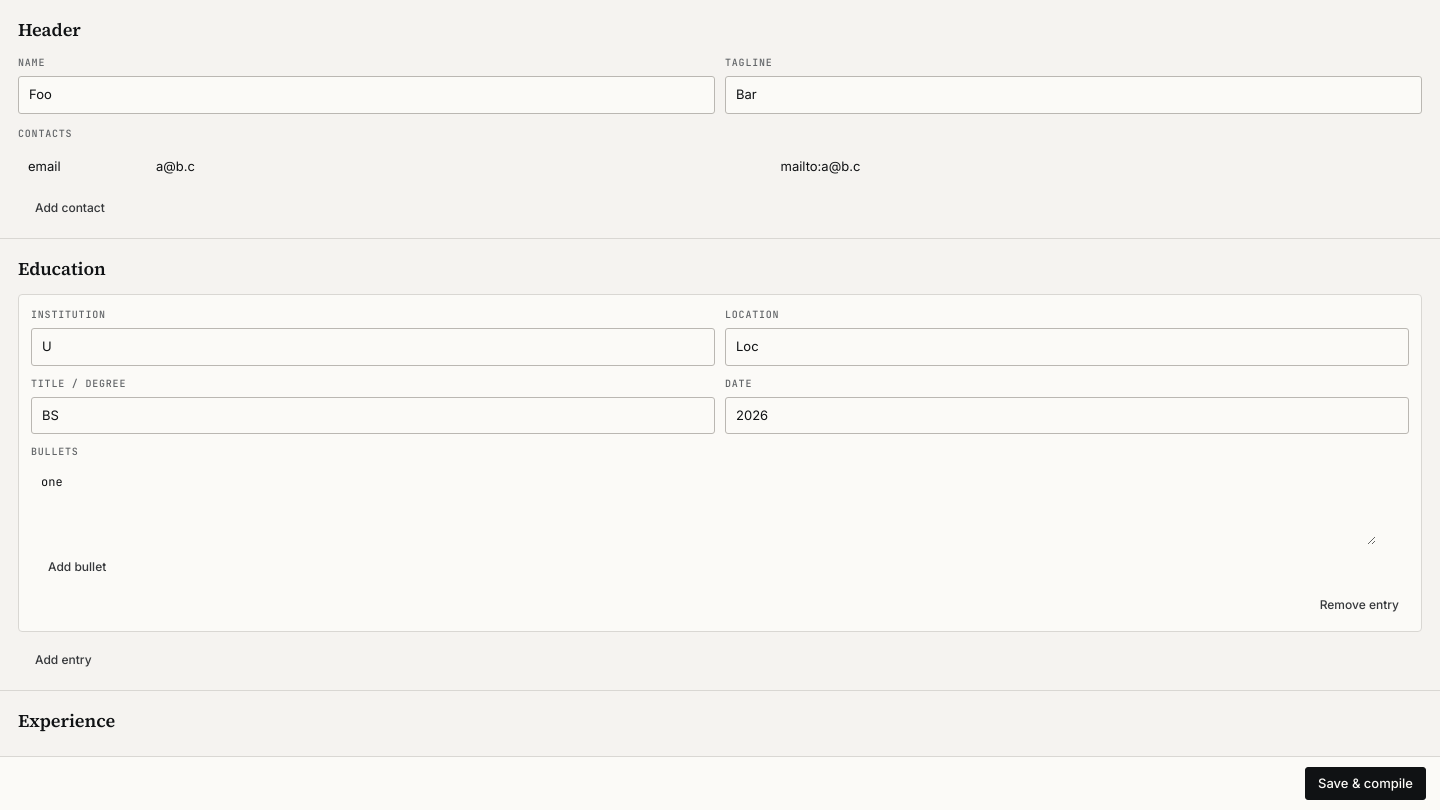
Test: shows not_one_page error on save failure
What coordinates should you click on to do the following:
click the button "Save & compile"
I would click on:
 (1366, 783)
Its box is [1305,766,1426,800].
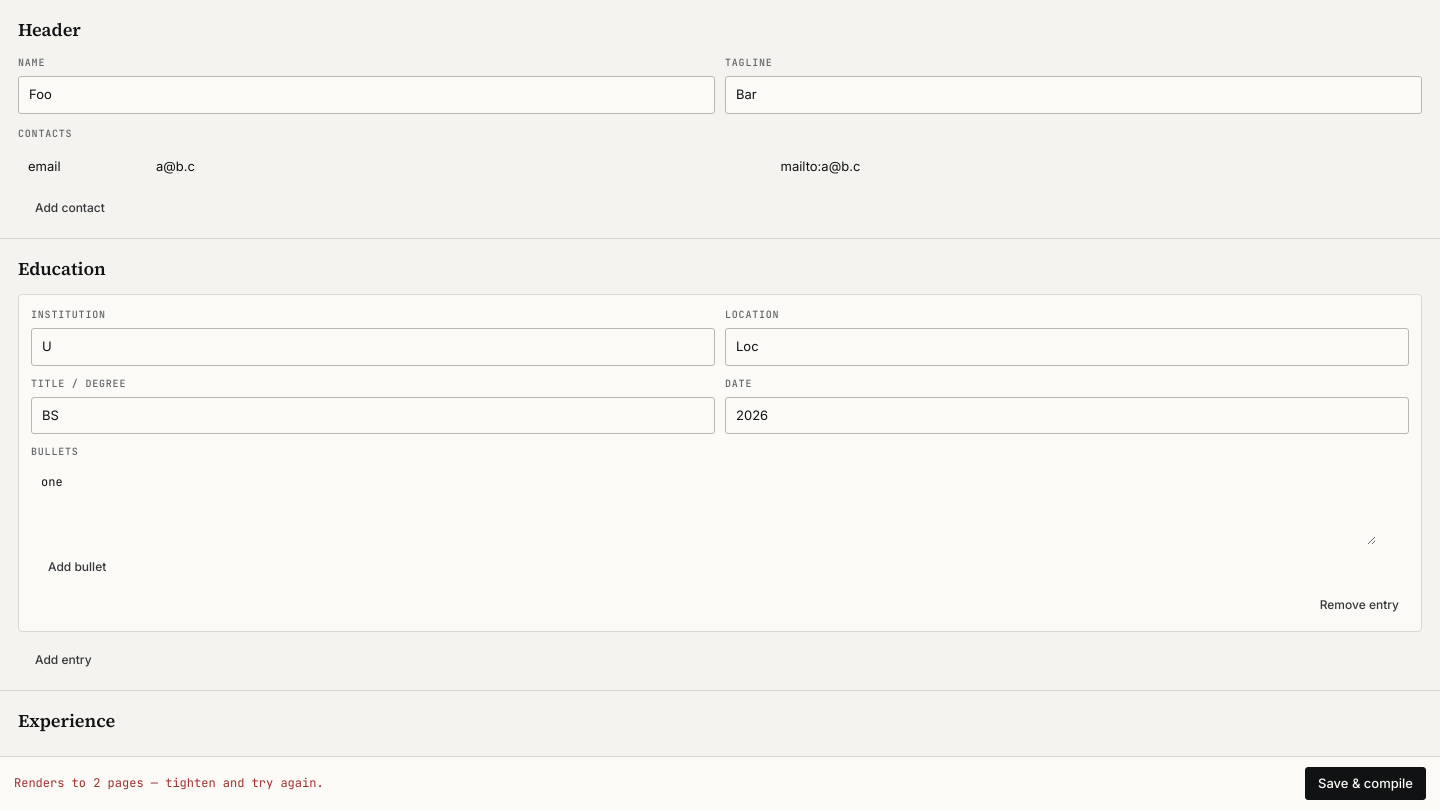
Now the message shows "2 page", box [14,775,324,791]
